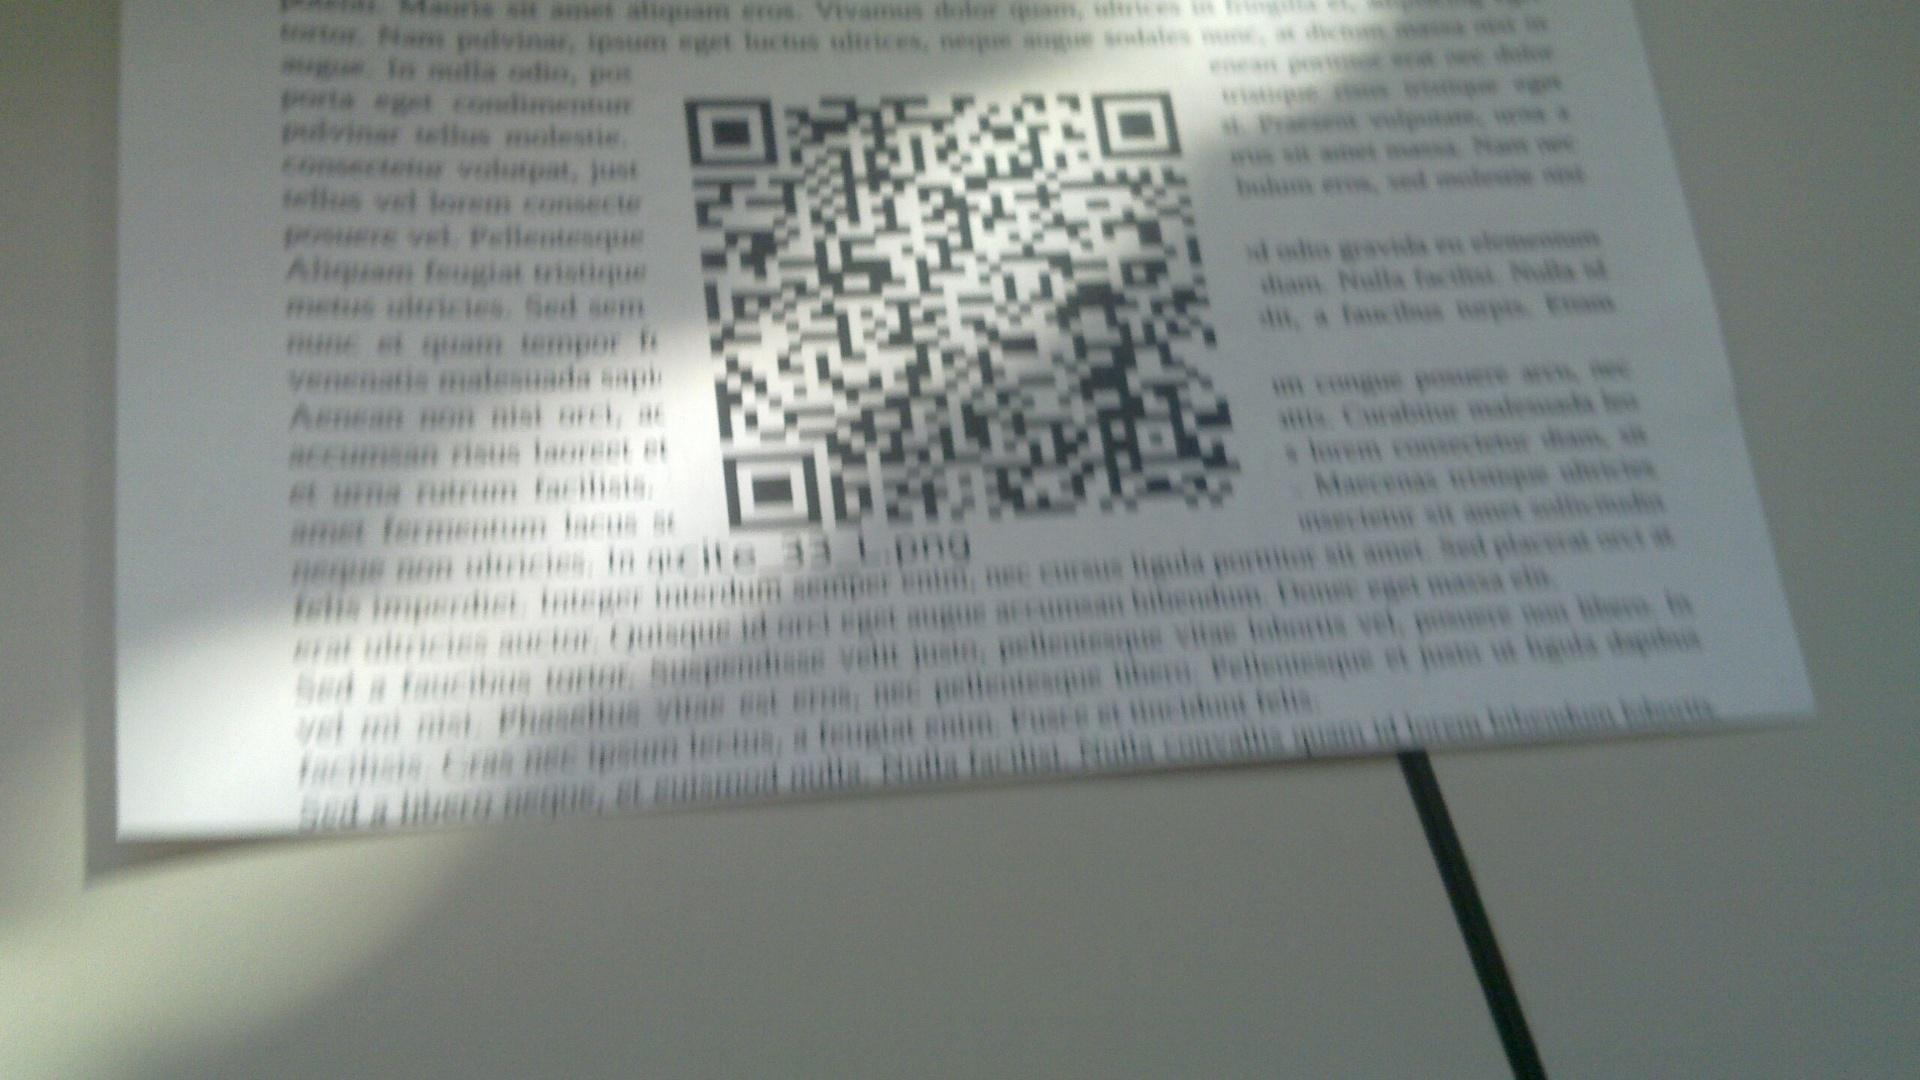Finder pattern: (719, 448, 825, 533), (679, 94, 785, 170), (1087, 86, 1185, 164)
